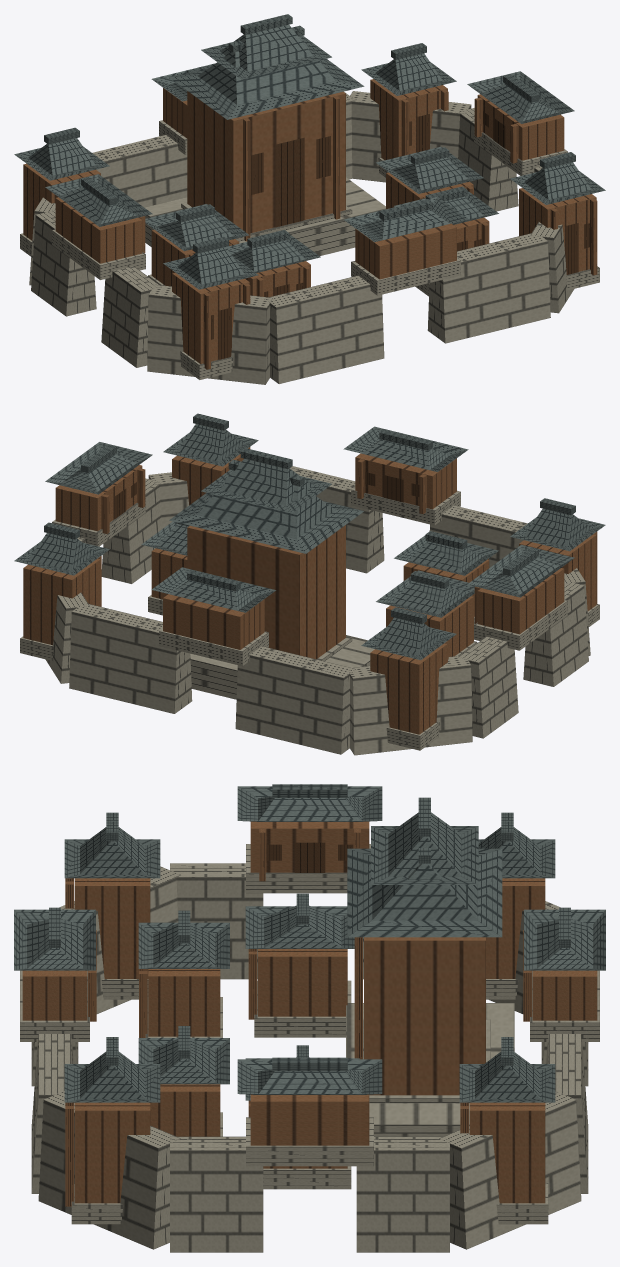
File: city2-lod1.glb
3 views of the same model, one above another, from view 1: azimuth 30°, elevation 25°; view 2: azimuth 150°, elevation 25°; view 3: azimuth 270°, elevation 25° (orthographic). The views are drawn at different scales.
Size of the model in its own units: 2.03 by 0.901 by 1.65.
Materials: 1 (1 with a texture image).
